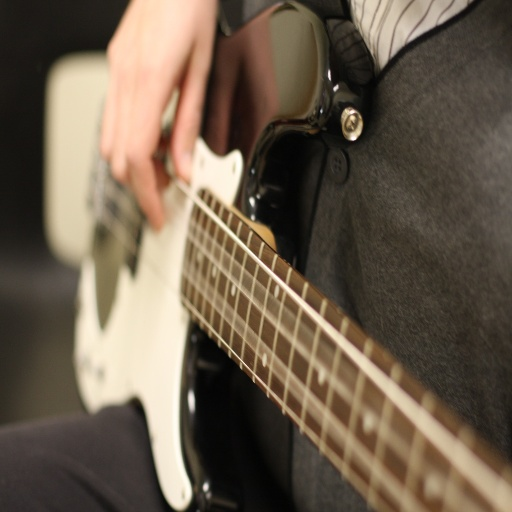hand: (103, 0, 218, 231)
